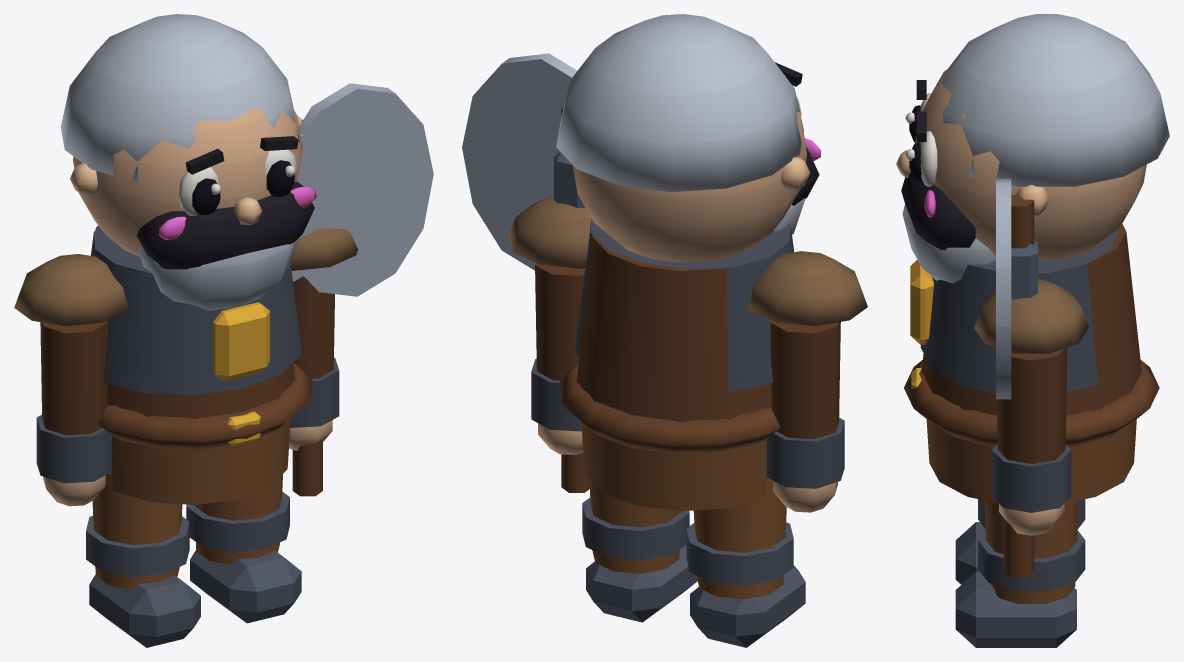
File: hero_marek.glb
The picture shows the model from 3 angles, left to right: view 1: azimuth 30°, elevation 25°; view 2: azimuth 150°, elevation 25°; view 3: azimuth 270°, elevation 25°; orthographic projection. The views are drawn at different scales.
Parts seen in each view (by area): view 1: body_t0_palette, armr_t0_palette, arml_t0_palette, legl_t0_palette, legr_t0_palette; view 2: body_t0_palette, armr_t0_palette, arml_t0_palette, legl_t0_palette, legr_t0_palette; view 3: body_t0_palette, armr_t0_palette, legr_t0_palette, legl_t0_palette.
Part boxes in pixels (x1,y1,x2,y2): body_t0_palette: (60,14,316,504); armr_t0_palette: (289,83,433,496); arml_t0_palette: (14,254,129,506); legl_t0_palette: (86,472,200,647); legr_t0_palette: (186,474,301,623); body_t0_palette: (556,14,820,511); armr_t0_palette: (462,53,591,492); arml_t0_palette: (748,251,867,512); legl_t0_palette: (686,478,805,647); legr_t0_palette: (582,479,697,622); body_t0_palette: (896,14,1169,503); armr_t0_palette: (974,178,1088,577); legr_t0_palette: (955,500,1085,647); legl_t0_palette: (955,499,1085,584).
Size of the model in its own units: 0.3601 by 0.508 by 0.214.
